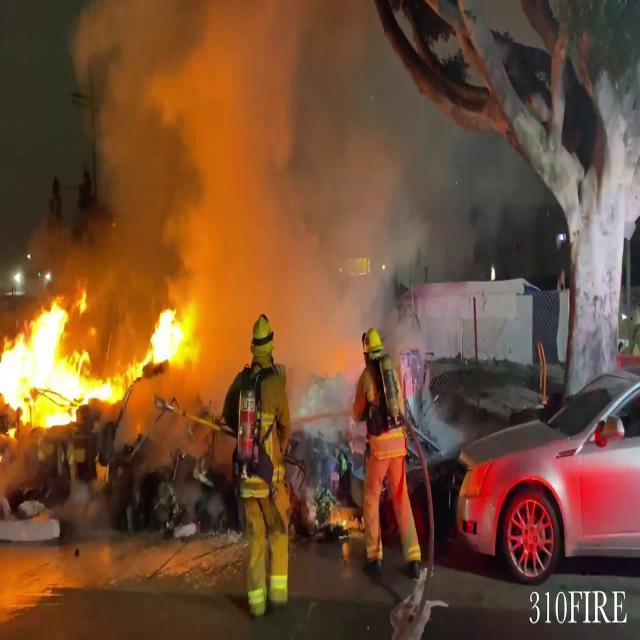Fire: (0, 294, 114, 432), (138, 300, 194, 376)
Smoke: (40, 0, 438, 367)
